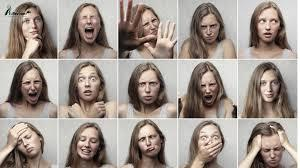Persons: (182, 61, 234, 119), (184, 0, 235, 56), (243, 64, 293, 117), (126, 62, 170, 117), (68, 62, 109, 116), (246, 4, 290, 53)
